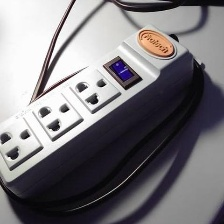three_eye_plug: (0, 24, 201, 204)
